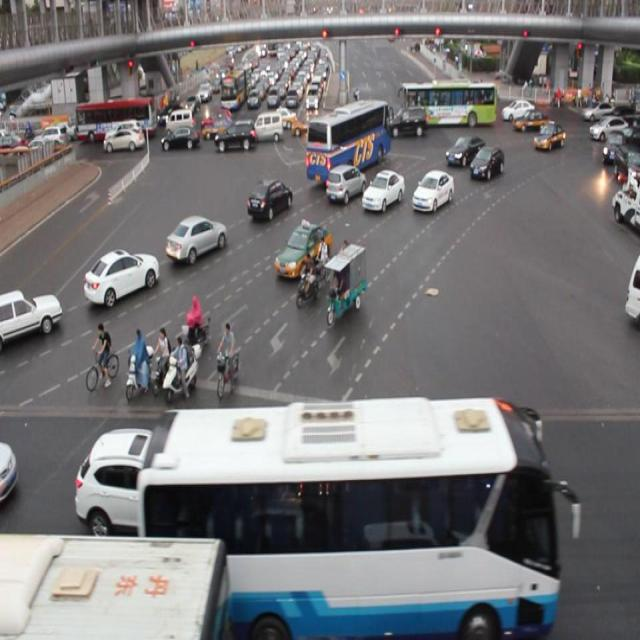car: (362, 423, 488, 537), (76, 422, 189, 536), (84, 247, 160, 310), (0, 282, 62, 340), (274, 221, 333, 280), (165, 212, 228, 264), (362, 169, 404, 214), (246, 180, 291, 222), (412, 170, 454, 212), (1, 435, 20, 521), (326, 163, 365, 204), (444, 136, 483, 166), (469, 146, 503, 180), (533, 119, 564, 149)
truck: (620, 250, 640, 330)
van: (138, 402, 561, 640), (1, 527, 225, 640), (306, 100, 390, 182)
